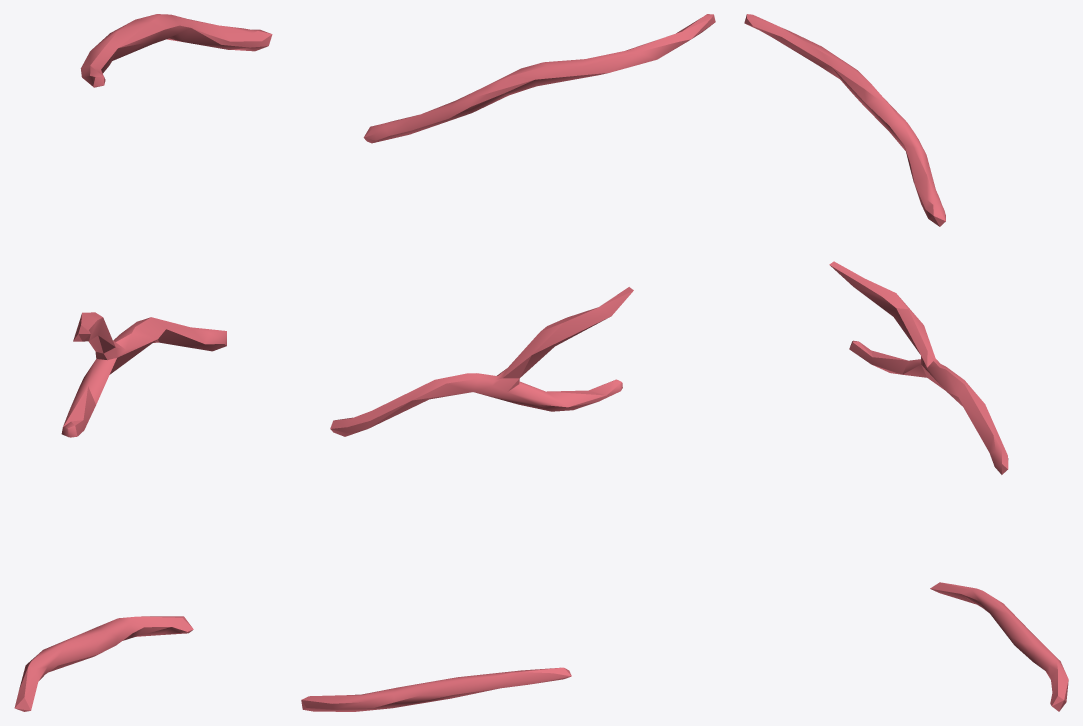
The model's file is fma51393_fj5081.glb.
3 renders of one model, left to right at view 1: azimuth 30°, elevation 25°; view 2: azimuth 150°, elevation 25°; view 3: azimuth 270°, elevation 25°, orthographic. The views are drawn at different scales.
Parts seen in each view (by area): view 1: FMA51393_FJ5081; view 2: FMA51393_FJ5081; view 3: FMA51393_FJ5081.
Part boxes in pixels (<box>): FMA51393_FJ5081: <box>14,14,272,711</box>; FMA51393_FJ5081: <box>301,14,715,711</box>; FMA51393_FJ5081: <box>744,14,1068,711</box>.
Bounding box in the file's own units: 0.00847 × 0.0208 × 0.0104.
